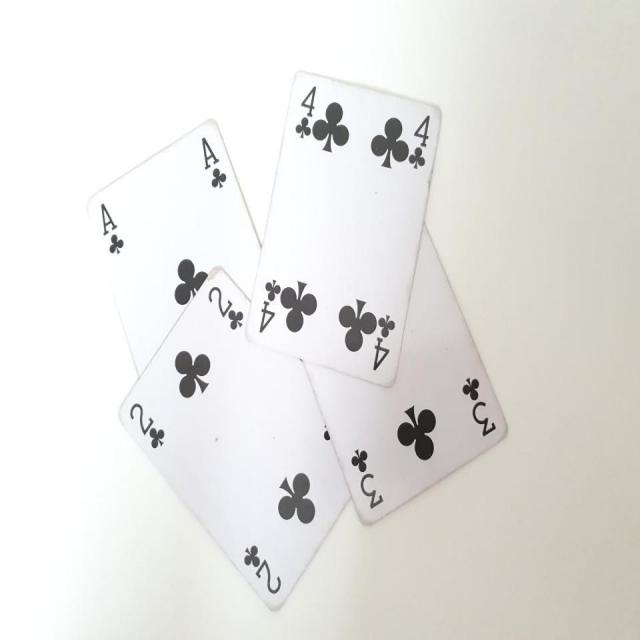2 Trefoils: (114, 263, 352, 614)
3 Trefoils: (303, 208, 511, 524)
4 Trefoils: (244, 70, 444, 388)
A Trefoils: (84, 117, 262, 378)
